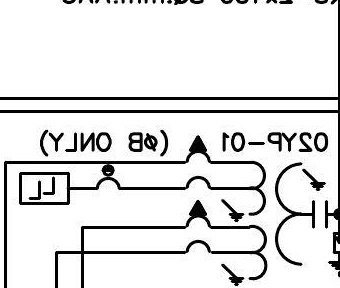115_cvt_1p: (183, 134, 329, 287)
LL: (19, 172, 70, 205)
